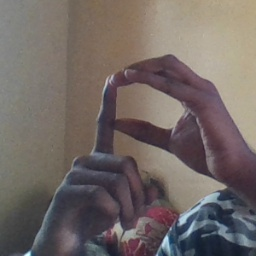P: (63, 52, 219, 227)
